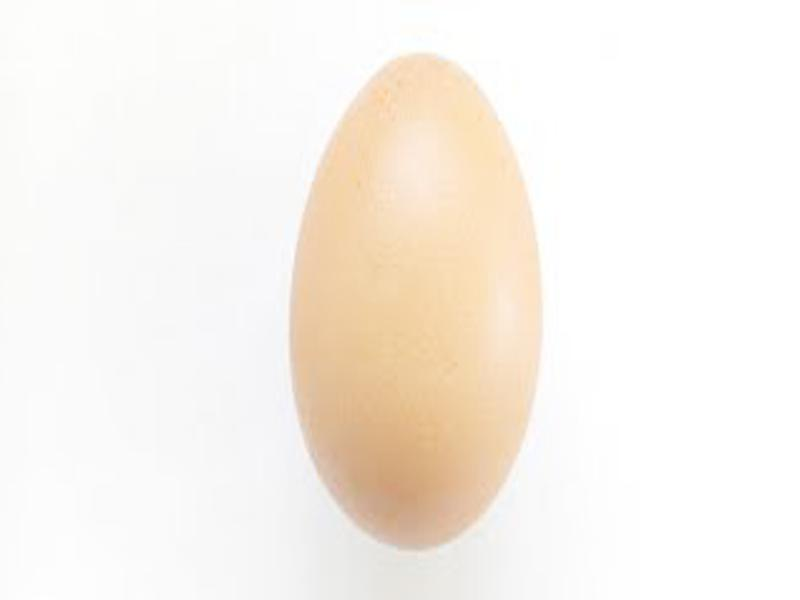Eggs: (288, 53, 540, 547)
